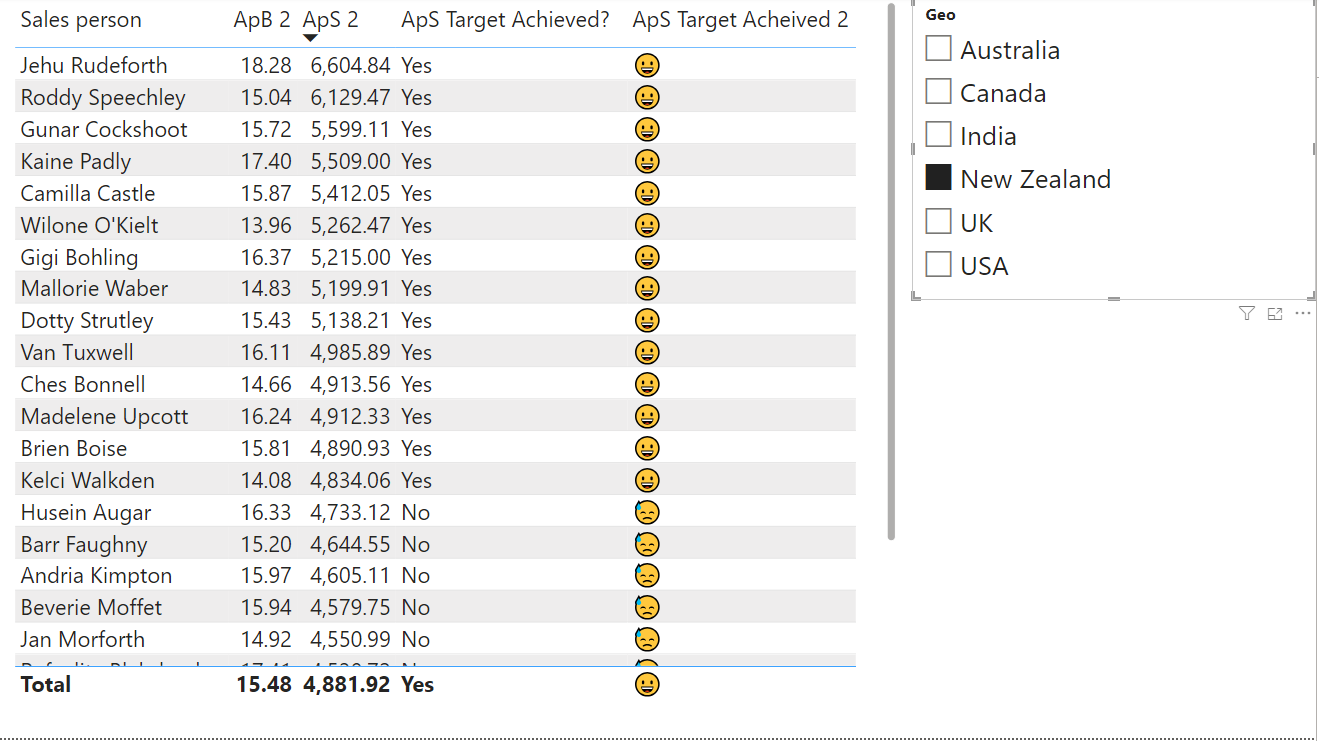

This screenshot's page, from the dashboard's own definition file:
{"tool":"powerbi","page":{"name":"APB & APS","canvas":[1280,720],"ordinal":1},"visuals":[{"type":"tableEx","fields":{"Values":["people.Sales person","sales.ApB 2","sales.ApS 2","sales.ApS Target Achieved?","sales.ApS Target Acheived 2"]},"box":[9.7,0,866.6,685.7],"z":0},{"type":"slicer","fields":{"Values":["locations.Geo"]},"box":[887.1,0,392.9,294.7],"z":1000}]}

Visuals, with their boxes on the page's 1280x720 design canvas (x1, y1, x2, y2). These are canvas units, not pixel positions in the 1319x741 screenshot, which may show the page scaled, cropped or inside an application window:
tableEx - people.Sales person x sales.ApB 2: [10, 0, 876, 686]
slicer - locations.Geo: [887, 0, 1280, 295]
